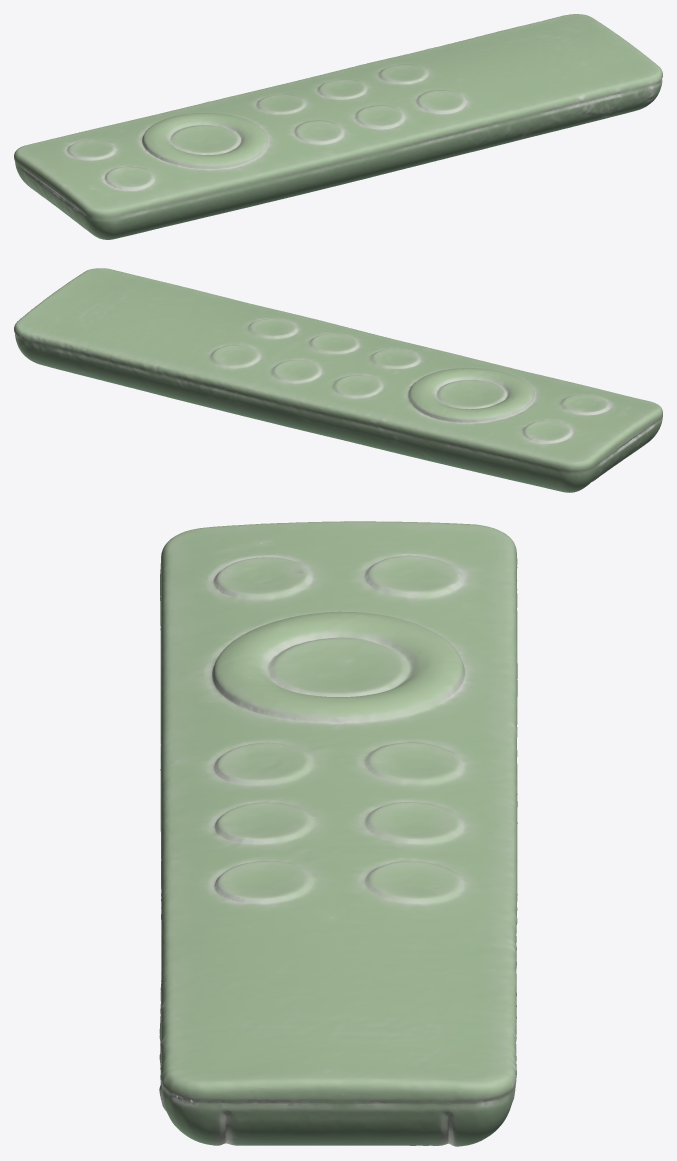
Rendered from remote.glb.
3 renders of one model, top to bottom at view 1: azimuth 30°, elevation 25°; view 2: azimuth 150°, elevation 25°; view 3: azimuth 270°, elevation 25°, orthographic. The views are drawn at different scales.
Parts seen in each view (by area): view 1: geometry_0; view 2: geometry_0; view 3: geometry_0.
Boxes of the visible parts, bbox=[...] form: geometry_0: bbox=[14, 14, 662, 239]; geometry_0: bbox=[14, 268, 662, 492]; geometry_0: bbox=[159, 521, 517, 1146].
Bounding box in the file's own units: 0.1465 × 0.0129 × 0.0394.
